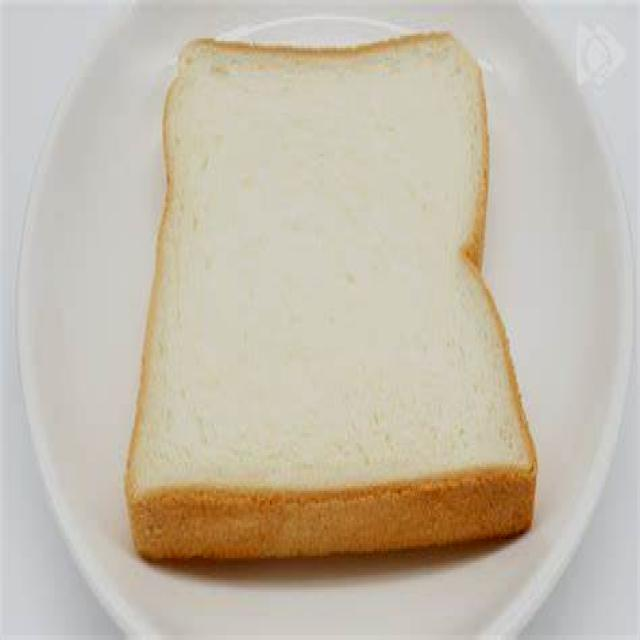roti tawar: (123, 17, 537, 565)
